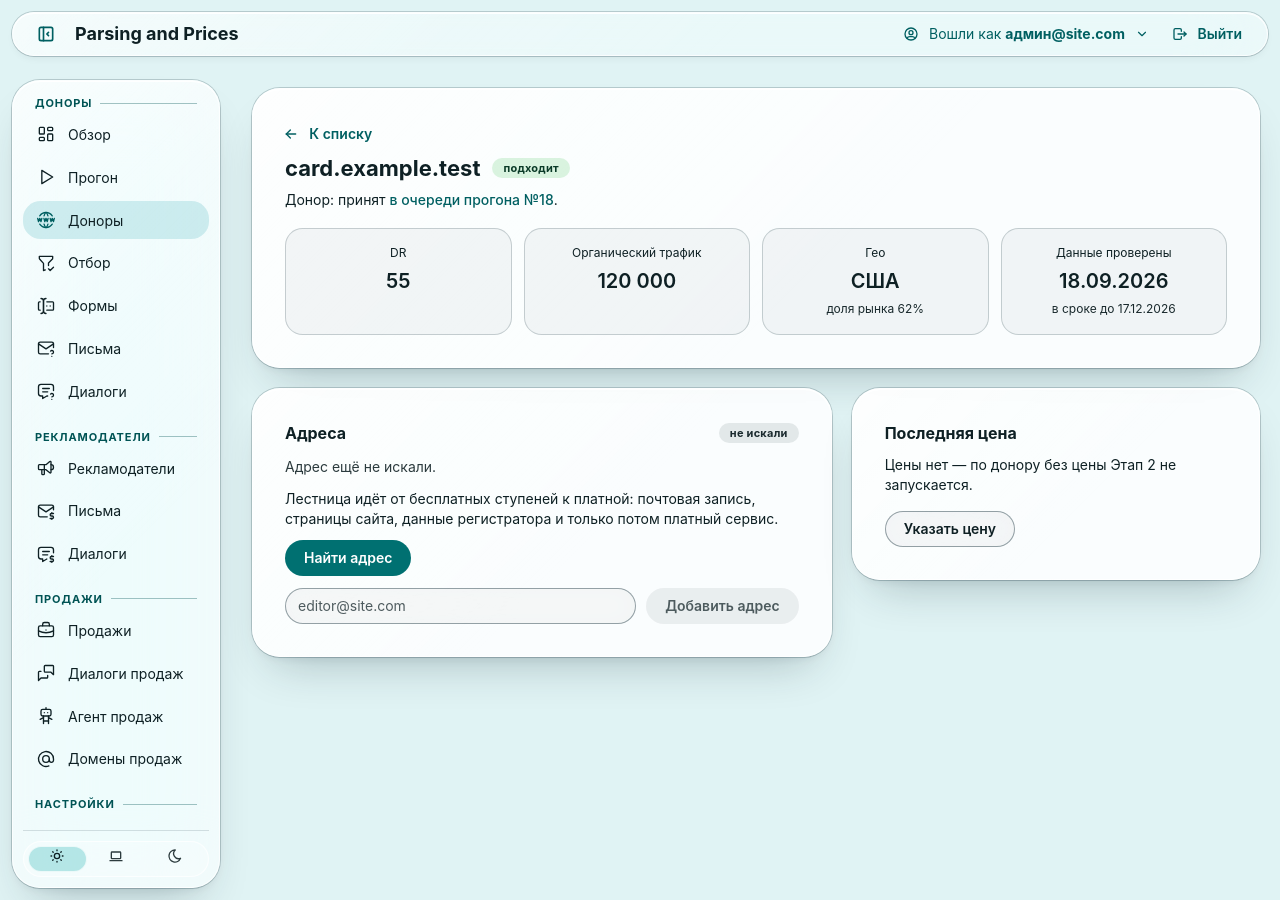
Test: карточка донора: адрес руками › вписанный адрес уходит на сервер, и карточка — из ответа сервера
Check: the heading "card.example.test" is shown, box left=285, top=153, right=480, bottom=184
Type "Editor@card.example.test" into the field named "Новый адрес почты". click: (461, 606)
box: left=285, top=588, right=636, bottom=624
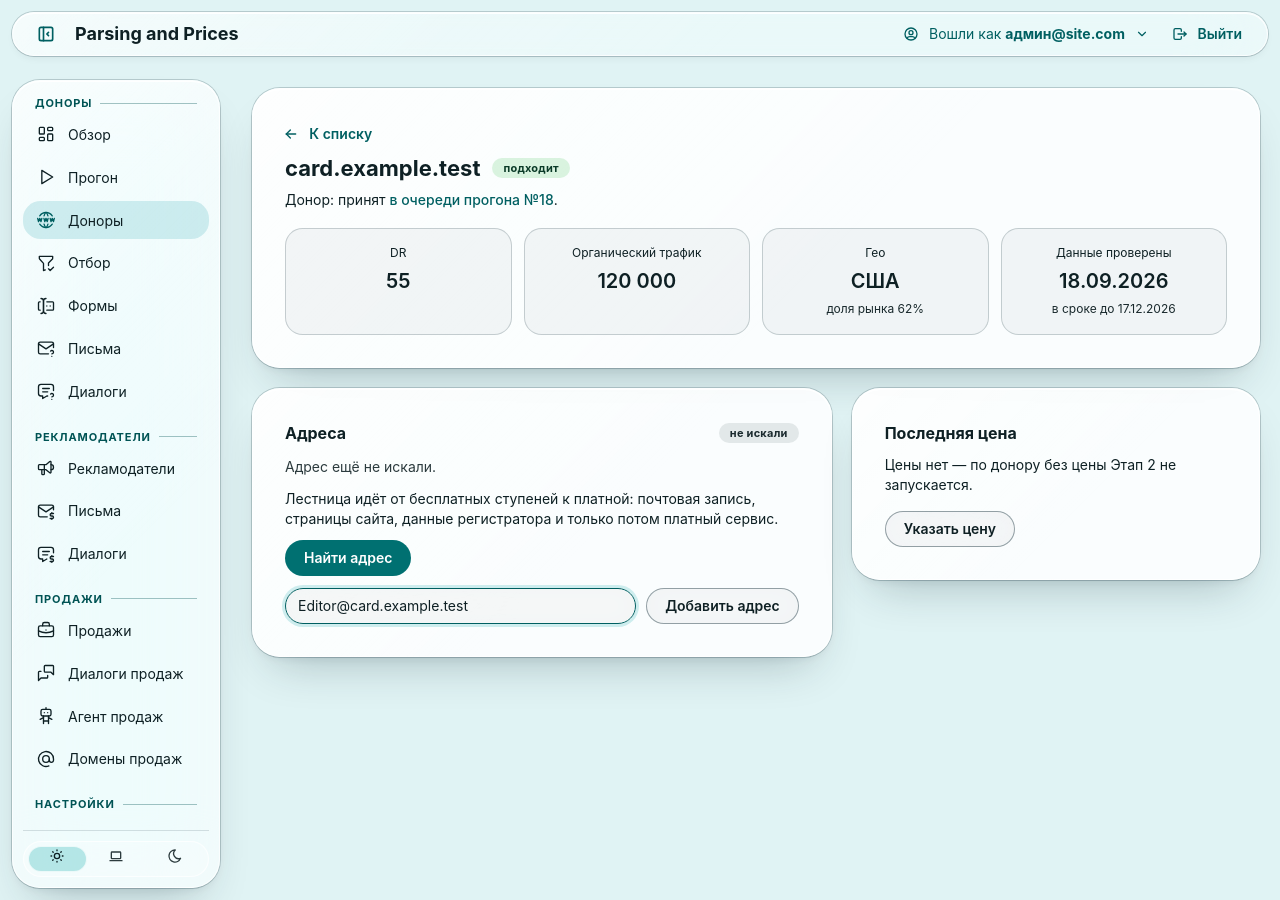
Click the button "Добавить адрес". click: (722, 606)
box: left=646, top=588, right=799, bottom=624
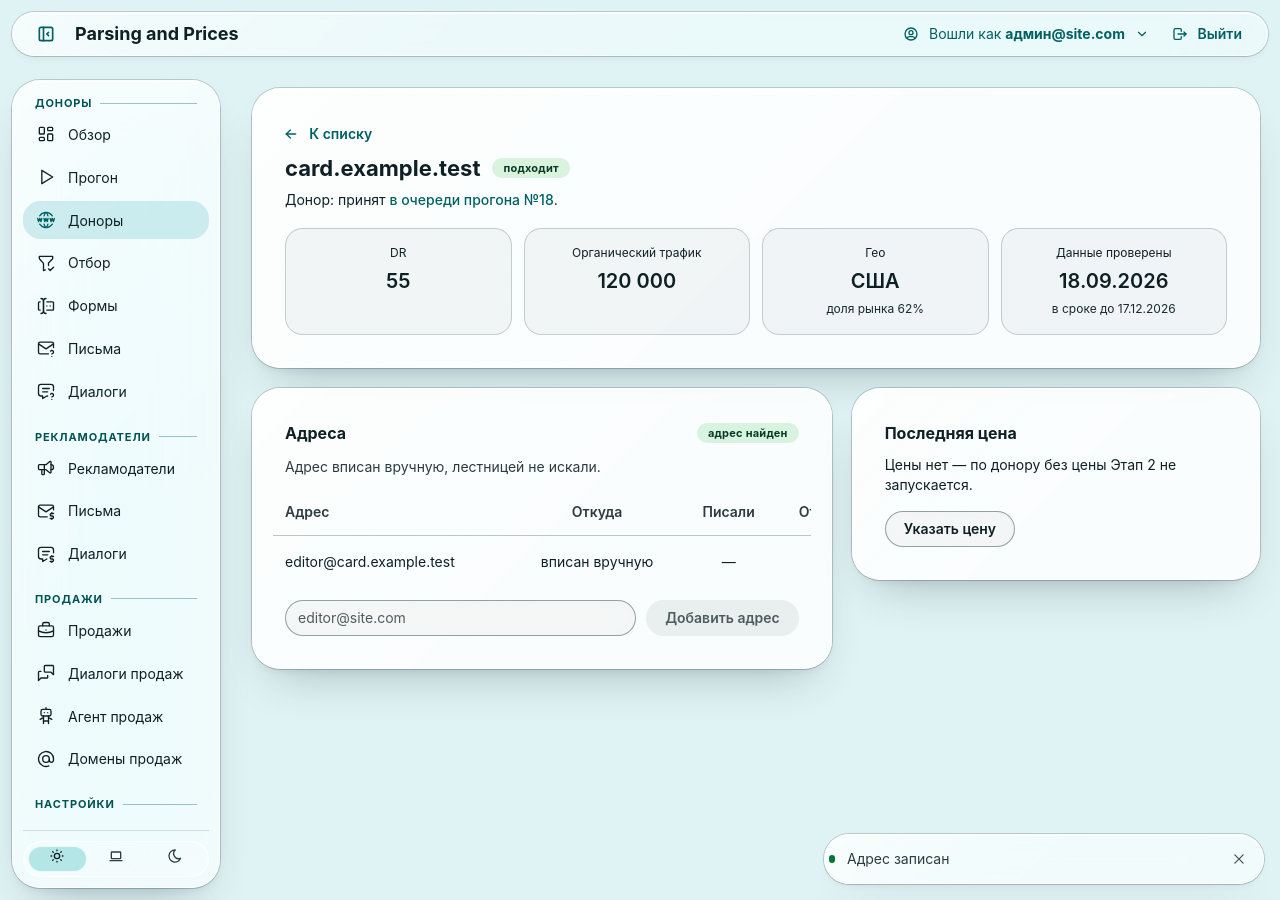
Check: the text "editor@card.example.test" is shown, box left=285, top=551, right=455, bottom=572
Check: the text "адрес найден" is shown, box left=708, top=424, right=788, bottom=442
Check: the text "Адрес вписан вручную, лестницей не искали." is shown, box left=285, top=458, right=601, bottom=475
